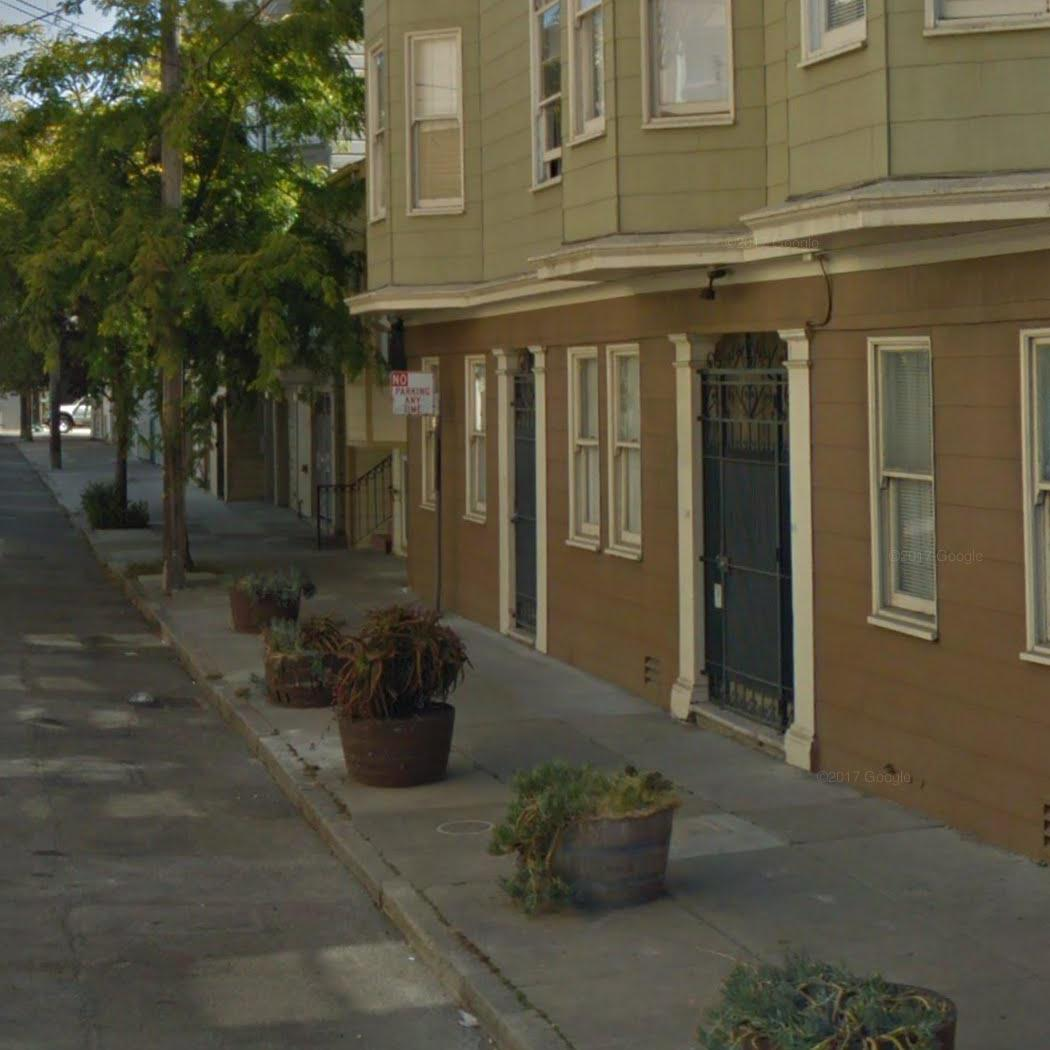No Parking Anytime: (388, 368, 436, 418)
